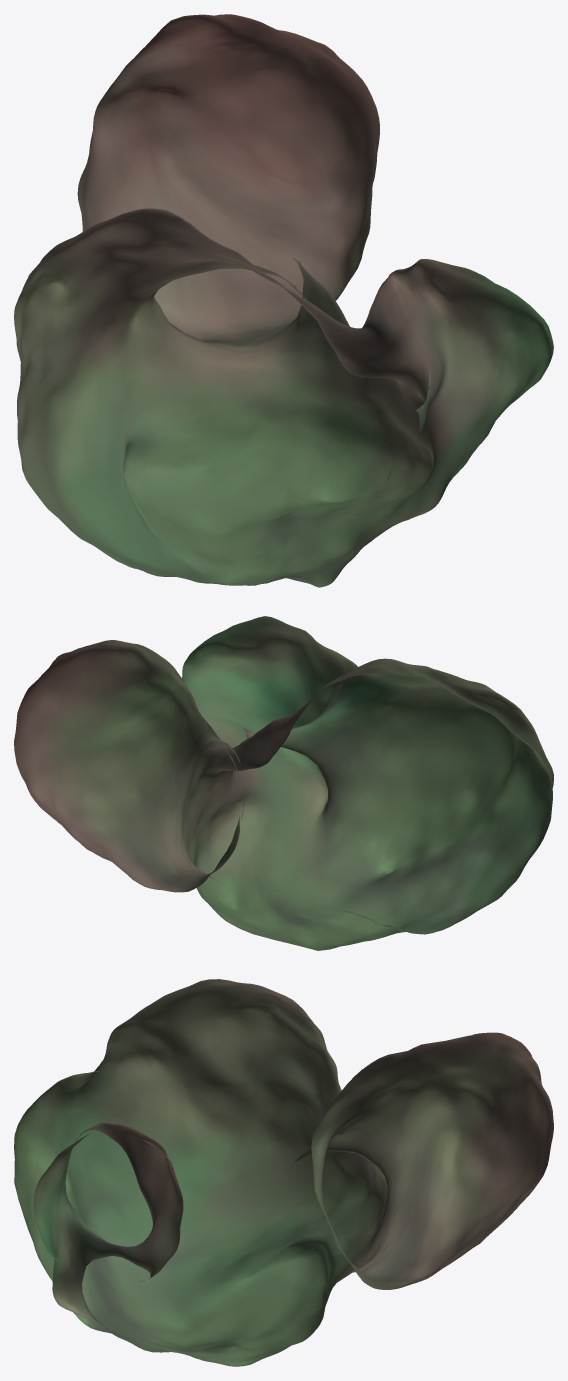
The model's file is Cloud1_LOD0.glb.
3 renders of one model, top to bottom at view 1: azimuth 30°, elevation 25°; view 2: azimuth 150°, elevation 25°; view 3: azimuth 270°, elevation 25°, orthographic. The views are drawn at different scales.
Parts seen in each view (by area): view 1: Cloud1_LOD0; view 2: Cloud1_LOD0; view 3: Cloud1_LOD0.
Boxes of the visible parts, x1,y1,x2,y2 form: Cloud1_LOD0: [14, 14, 553, 587]; Cloud1_LOD0: [14, 616, 553, 950]; Cloud1_LOD0: [14, 979, 553, 1366].
Bounding box in the file's own units: 0.8413 × 0.682 × 0.9467.
